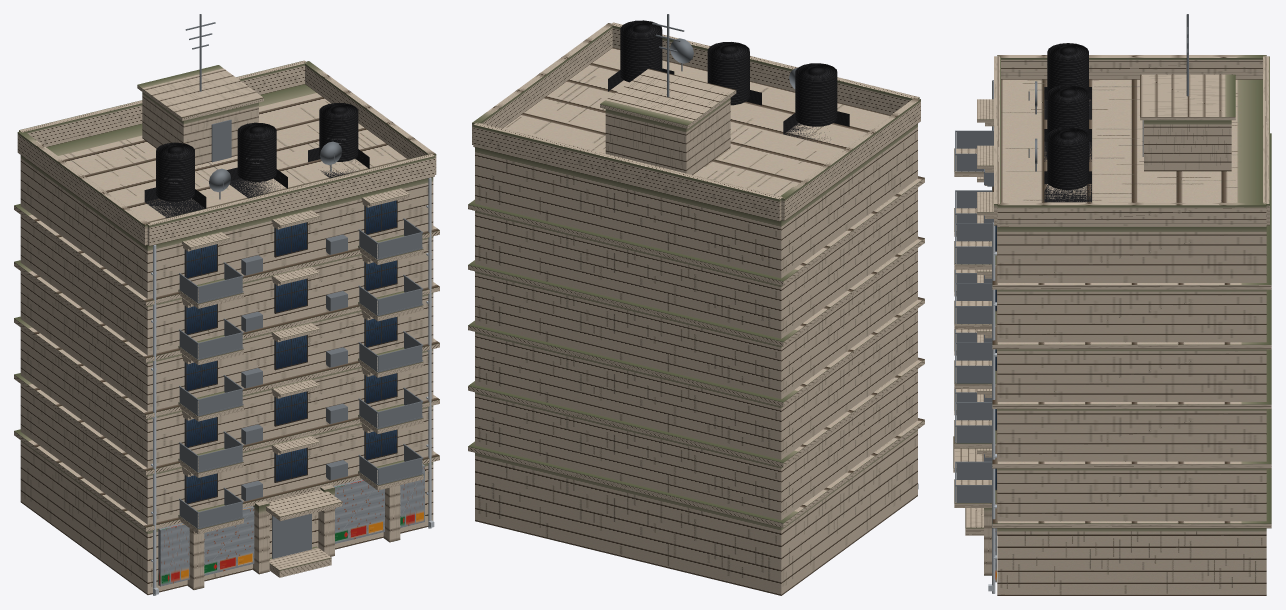
File: mumbai_urban_building_aaa_lod1.glb
3 views of the same model, side by side, from view 1: azimuth 30°, elevation 25°; view 2: azimuth 150°, elevation 25°; view 3: azimuth 270°, elevation 25° (orthographic). The views are drawn at different scales.
Parts seen in each view (by area): view 1: Residential_Walls_node, Rooftop_Structure_node, Ground_Structure_node, Windows_Glass_node, Balcony_Metal_Railings_node, Sintex_Water_Tanks_node, Shop_Fronts_node, Balcony_Slabs_node, AC_Compressor_Units_node, PVC_Drainage_Downspouts_node, Entrance_Gate_node, Telecom_Antennas_Dishes_node (+1 smaller); view 2: Residential_Walls_node, Ground_Structure_node, Rooftop_Structure_node, Sintex_Water_Tanks_node, Telecom_Antennas_Dishes_node; view 3: Residential_Walls_node, Rooftop_Structure_node, Ground_Structure_node, Balcony_Metal_Railings_node, Sintex_Water_Tanks_node, Balcony_Slabs_node, PVC_Drainage_Downspouts_node, Telecom_Antennas_Dishes_node.
Boxes of the visible parts, x1=… form: Residential_Walls_node: x1=14, y1=84, x2=439, y2=531; Rooftop_Structure_node: x1=17, y1=60, x2=436, y2=246; Ground_Structure_node: x1=20, y1=440, x2=433, y2=594; Windows_Glass_node: x1=184, y1=200, x2=397, y2=504; Balcony_Metal_Railings_node: x1=179, y1=218, x2=423, y2=528; Sintex_Water_Tanks_node: x1=144, y1=103, x2=369, y2=217; Shop_Fronts_node: x1=158, y1=464, x2=424, y2=586; Balcony_Slabs_node: x1=178, y1=234, x2=423, y2=534; AC_Compressor_Units_node: x1=241, y1=234, x2=347, y2=501; PVC_Drainage_Downspouts_node: x1=151, y1=177, x2=434, y2=595; Entrance_Gate_node: x1=272, y1=513, x2=311, y2=558; Telecom_Antennas_Dishes_node: x1=185, y1=14, x2=341, y2=199; Residential_Walls_node: x1=468, y1=48, x2=924, y2=527; Ground_Structure_node: x1=475, y1=429, x2=917, y2=595; Rooftop_Structure_node: x1=472, y1=22, x2=920, y2=221; Sintex_Water_Tanks_node: x1=608, y1=20, x2=849, y2=143; Telecom_Antennas_Dishes_node: x1=652, y1=14, x2=797, y2=97; Residential_Walls_node: x1=977, y1=79, x2=1271, y2=528; Rooftop_Structure_node: x1=994, y1=55, x2=1269, y2=226; Ground_Structure_node: x1=953, y1=436, x2=1266, y2=595; Balcony_Metal_Railings_node: x1=955, y1=130, x2=993, y2=502; Sintex_Water_Tanks_node: x1=1044, y1=43, x2=1091, y2=202; Balcony_Slabs_node: x1=954, y1=148, x2=996, y2=507; PVC_Drainage_Downspouts_node: x1=988, y1=80, x2=996, y2=593; Telecom_Antennas_Dishes_node: x1=1028, y1=14, x2=1188, y2=171.
Size of the model in its own units: 18 by 28.1 by 15.95.
6 materials, 4 textured.
